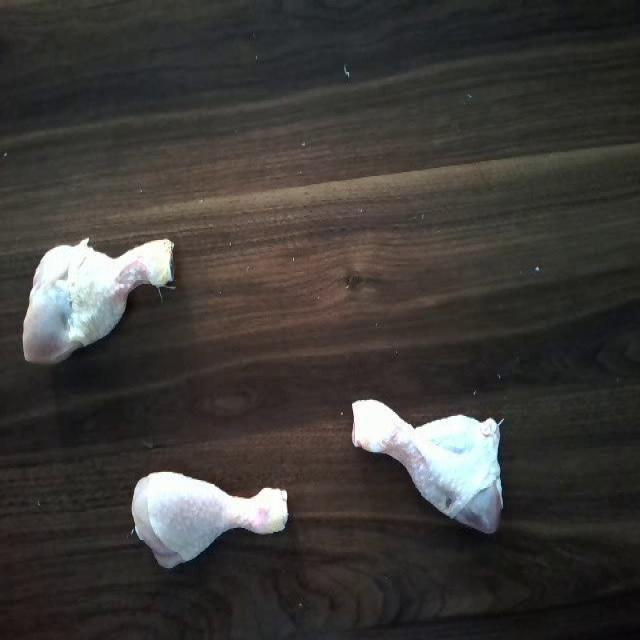leg: (342, 388, 510, 548), (20, 236, 180, 364), (123, 462, 298, 572)
